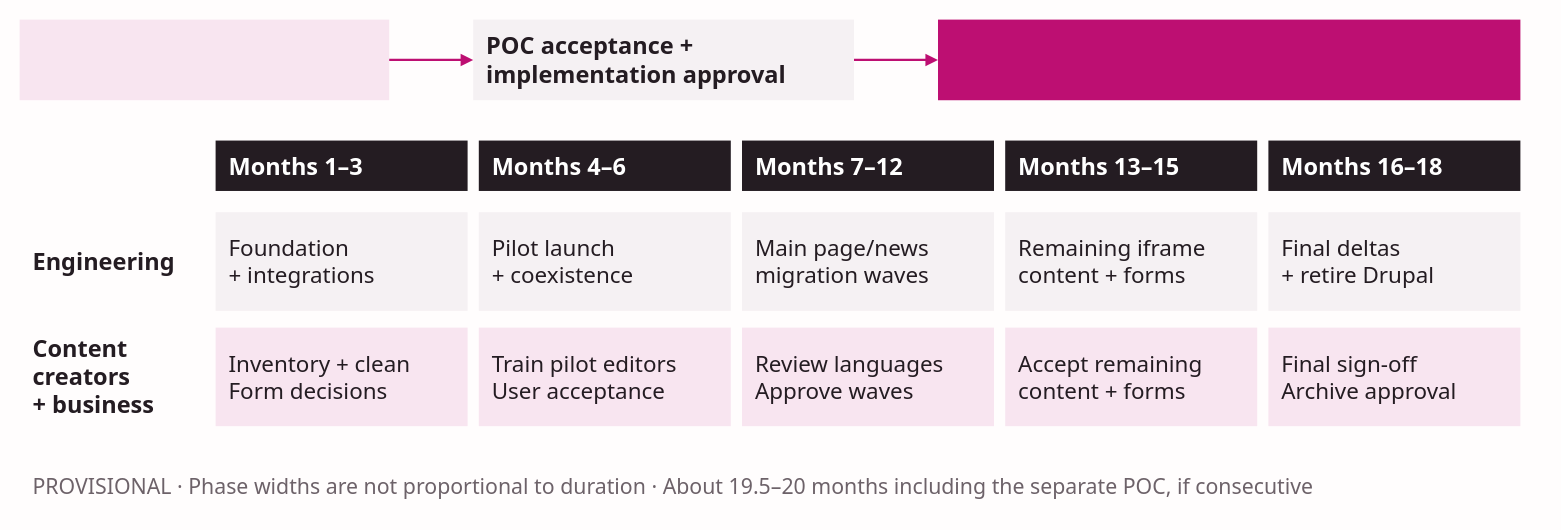
The diagram is 1561 pixels wide and 530 high, and some of its shapes have lost their labels. The shapes that lost their labels are listed below. From the top down, each one's box as (x1, y1, x2, y2) in pixels, then its label:
(19, 19, 389, 100): POC · 6 weeks + up to 2 PPO confirms flows
(937, 19, 1520, 100): 18-month implementation starts Real-user training begins in the pilot
